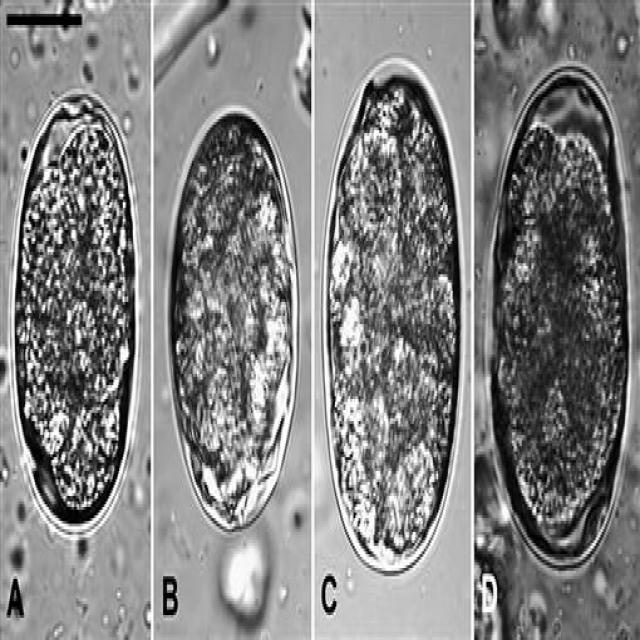Ancylostoma Spp: (318, 50, 470, 584), (484, 48, 634, 580), (6, 84, 142, 558), (165, 105, 302, 546)
